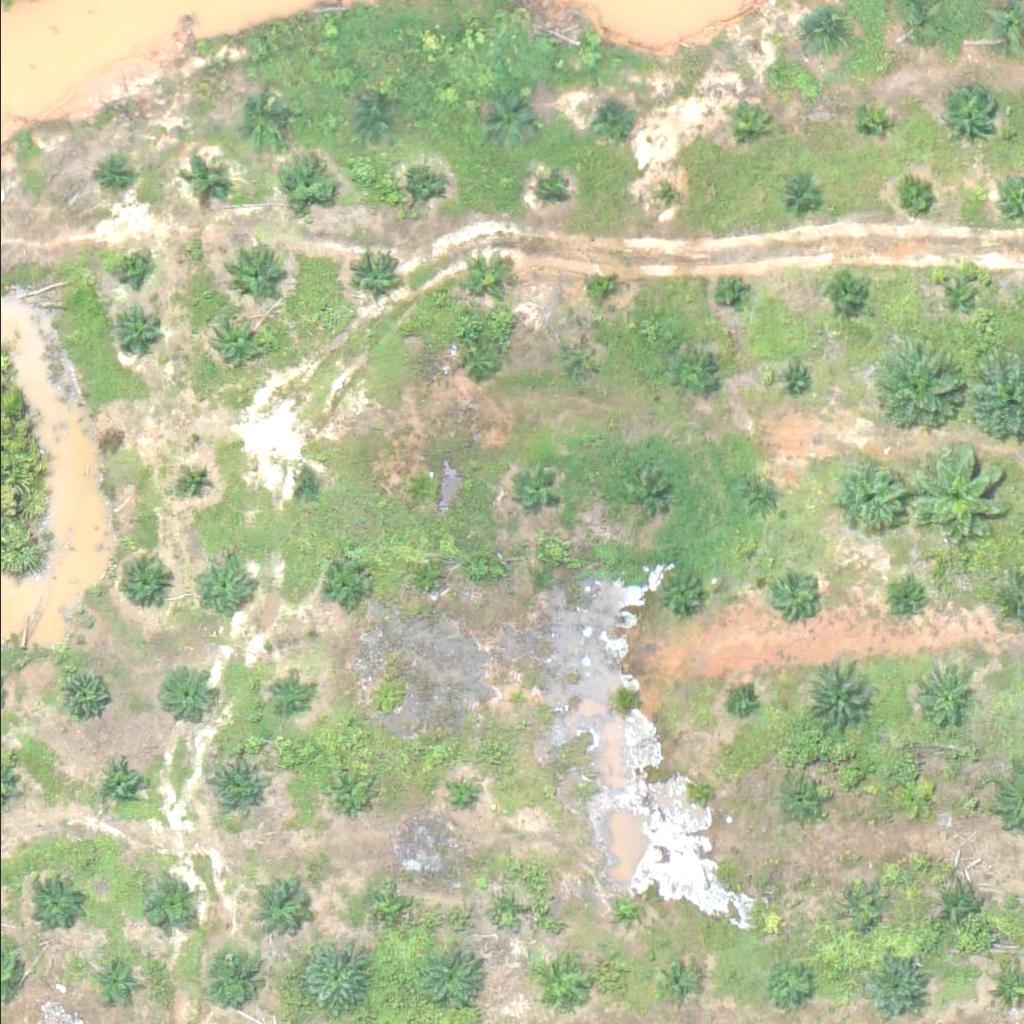Kelapa_Sawit: (912, 446, 1013, 546), (824, 453, 912, 541), (875, 344, 963, 432), (412, 938, 488, 1013), (194, 942, 270, 1017), (298, 942, 374, 1017), (800, 659, 876, 734), (252, 871, 315, 934), (206, 756, 269, 819), (863, 959, 926, 1022), (205, 310, 268, 373), (911, 667, 974, 729), (109, 550, 172, 612), (191, 554, 254, 616), (934, 83, 997, 145), (223, 244, 286, 306), (452, 340, 503, 390), (159, 670, 210, 720), (58, 667, 109, 717), (94, 758, 145, 808), (322, 560, 373, 610), (932, 884, 983, 934), (838, 885, 889, 935), (892, 773, 943, 823), (765, 961, 816, 1011), (458, 253, 509, 303), (719, 99, 770, 149), (140, 882, 190, 932), (30, 878, 80, 928), (532, 960, 582, 1010), (772, 779, 822, 829), (649, 956, 699, 1006), (388, 161, 438, 211), (279, 159, 329, 209), (346, 248, 396, 298), (110, 308, 160, 358), (766, 568, 816, 618), (652, 571, 702, 621), (513, 468, 563, 518), (620, 468, 670, 518), (734, 475, 784, 525), (664, 348, 714, 398), (824, 267, 874, 317), (480, 95, 530, 145), (933, 270, 983, 320), (229, 97, 279, 147), (96, 960, 134, 998), (266, 673, 304, 711), (186, 158, 224, 196), (95, 159, 133, 197), (112, 246, 150, 284), (591, 99, 629, 137), (323, 778, 361, 815), (175, 465, 213, 502), (400, 469, 437, 507), (555, 343, 592, 381), (848, 102, 885, 140), (353, 99, 391, 136), (902, 9, 939, 47), (899, 182, 937, 219), (405, 562, 443, 599), (776, 178, 813, 215), (804, 10, 841, 47), (727, 688, 753, 713), (371, 900, 397, 925), (617, 893, 642, 918), (489, 898, 514, 923), (446, 781, 471, 806), (690, 781, 715, 806), (291, 471, 316, 496), (718, 279, 743, 304), (588, 272, 613, 297), (649, 184, 674, 209), (537, 178, 562, 203), (892, 589, 917, 614), (501, 687, 526, 712), (782, 367, 807, 391)
